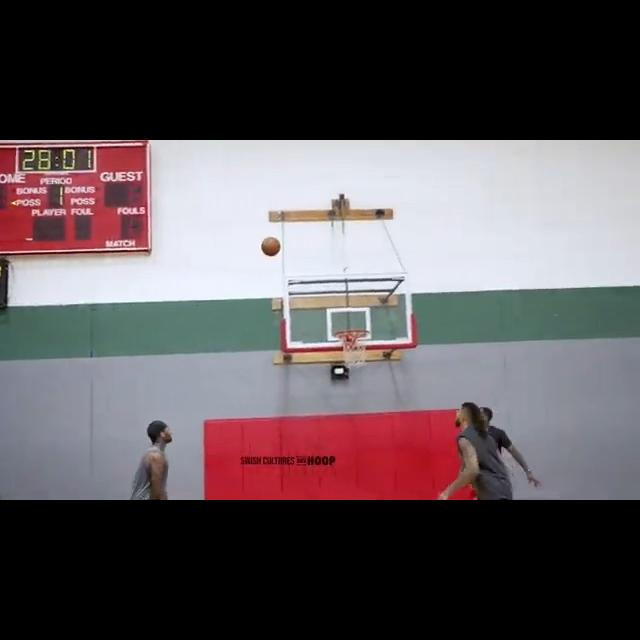basketball: (259, 236, 282, 257)
hoop: (336, 331, 371, 371)
person: (462, 397, 538, 500), (455, 399, 514, 500), (128, 419, 176, 500)
